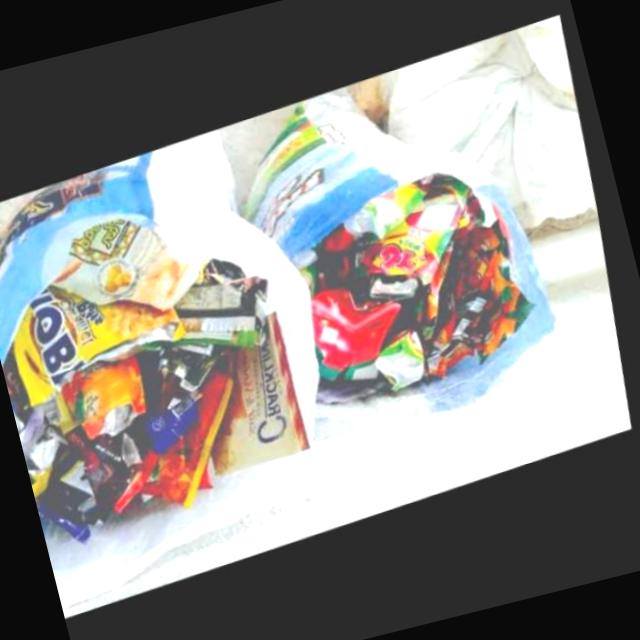bao_bi_thuc_pham: (18, 288, 181, 405), (122, 368, 241, 510), (217, 313, 319, 475), (56, 215, 215, 310), (367, 181, 485, 286), (318, 289, 407, 371), (78, 354, 154, 438)
